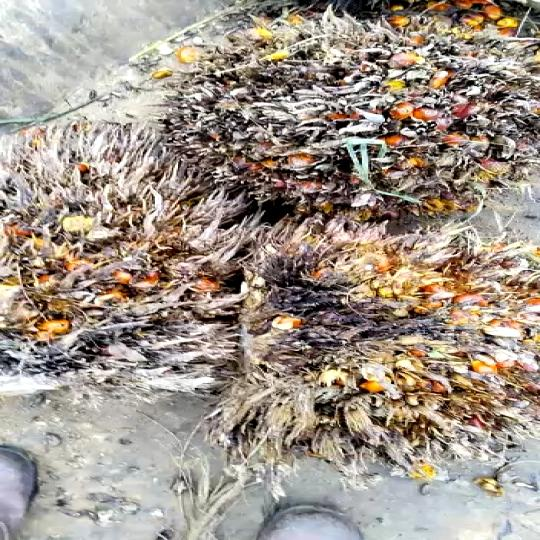terlalu masak: (157, 23, 540, 221), (235, 228, 540, 454)
